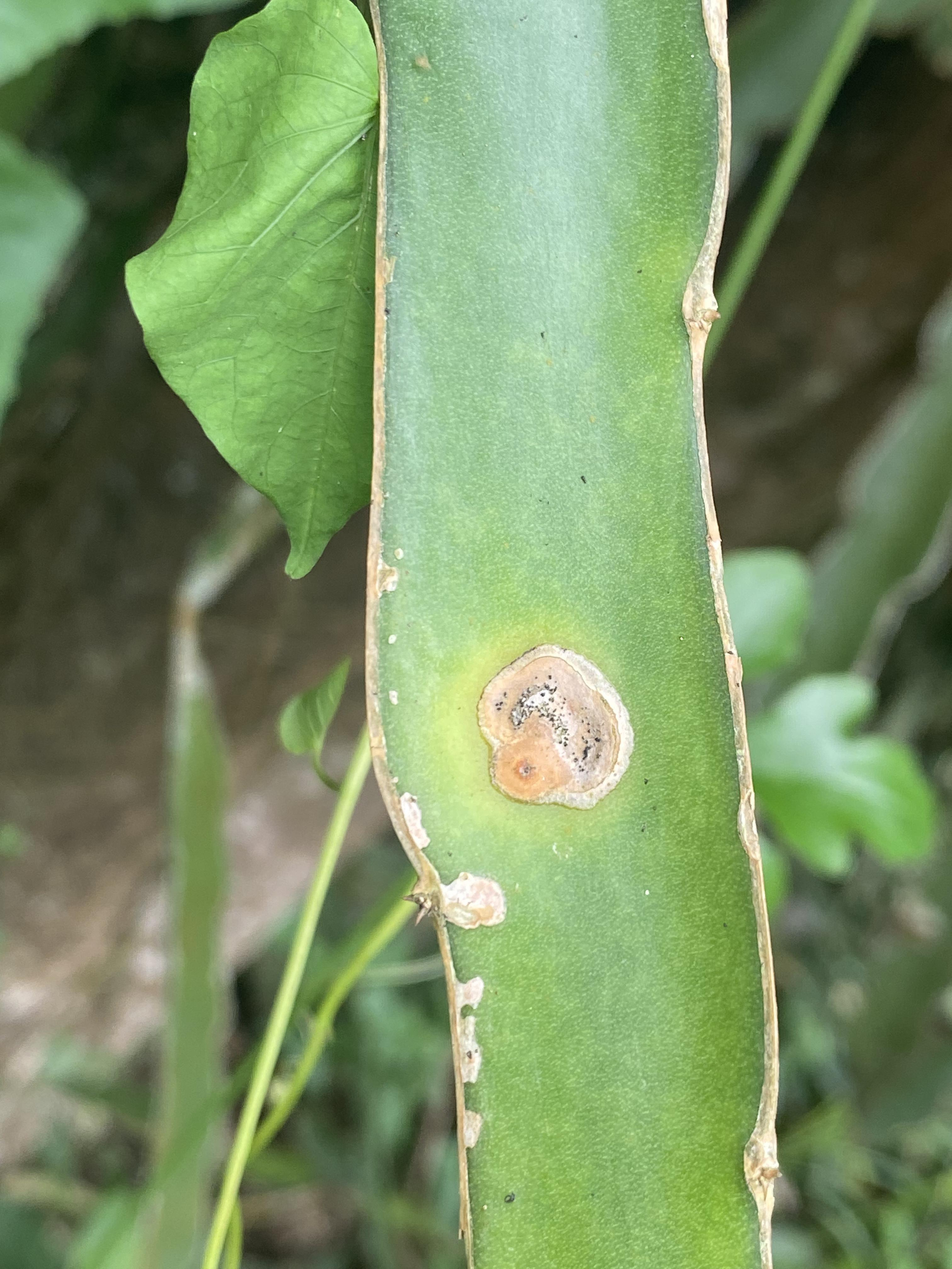stemcanker: (468, 637, 640, 819)
